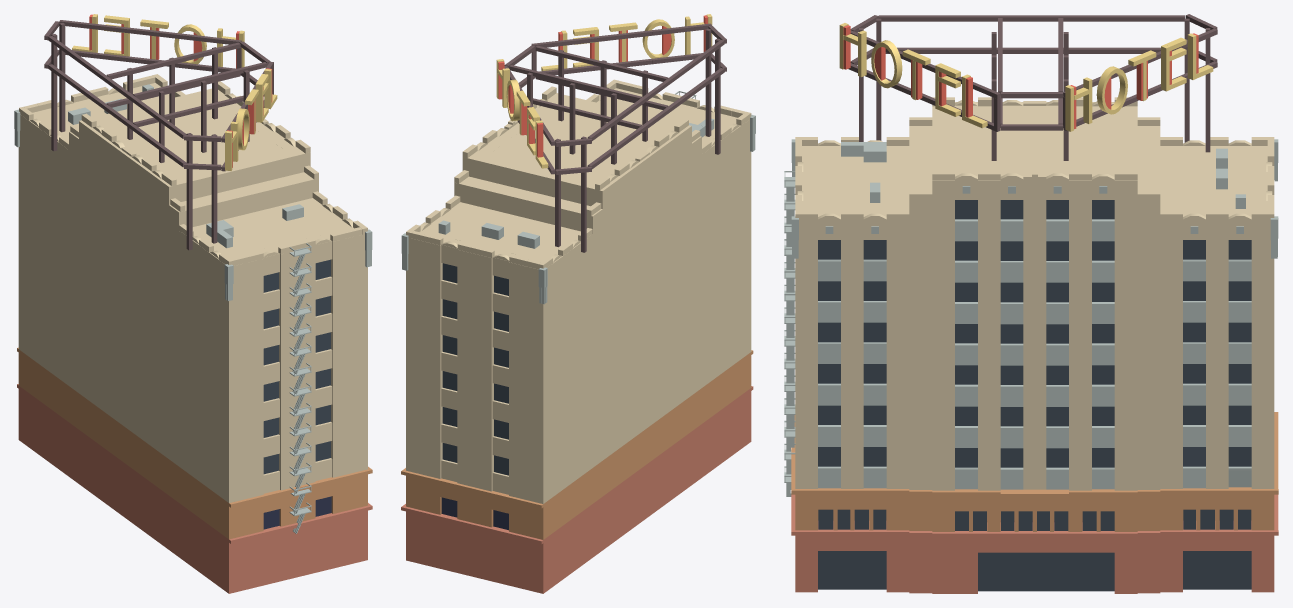
The model's file is Hotel_biggerBlock.fbx.
3 views of the same model, side by side, from view 1: azimuth 30°, elevation 25°; view 2: azimuth 150°, elevation 25°; view 3: azimuth 270°, elevation 25° (orthographic). The views are drawn at different scales.
Parts seen in each view (by area): view 1: pCube2976, pCube3454, pCube1697, pCube1586, pCube1311, pCube2116, pCube2918, pCube2003, pCube2524, pCube2298, pCube4908, pCube2984 (+134 smaller); view 2: pCube3417, pCube3442, pCube3448, pCube4872, pCube3420, pCube1579, pCube1692, pCube2916, pCube1309, pCube2519, pCube2180, pCube2293 (+142 smaller); view 3: pCube3454, pCube3415, pCube3543, pCube3544, pCube3545, pCube3418, pCube3542, pCube3419, pCube3417, pCube2964, pCube3519, pCube1552 (+122 smaller).
Part boxes in pixels (x1,y1,x2,y2): pCube2976: (209, 244, 263, 303); pCube3454: (313, 218, 372, 277); pCube1697: (209, 470, 265, 521); pCube1586: (209, 507, 265, 557); pCube1311: (209, 543, 263, 593); pCube2116: (209, 398, 263, 448); pCube2918: (209, 289, 263, 339); pCube2003: (209, 434, 263, 484); pCube2524: (209, 325, 263, 375); pCube2298: (209, 362, 263, 412); pCube4908: (149, 165, 203, 222); pCube2984: (244, 235, 298, 292); pCube3417: (454, 144, 509, 209); pCube3442: (561, 175, 612, 233); pCube3448: (509, 255, 553, 306); pCube4872: (490, 159, 541, 217); pCube3420: (401, 224, 449, 281); pCube1579: (507, 514, 553, 557); pCube1692: (507, 478, 553, 521); pCube2916: (509, 298, 553, 342); pCube1309: (509, 549, 553, 593); pCube2519: (509, 334, 553, 378); pCube2180: (509, 406, 553, 449); pCube2293: (509, 370, 553, 414); pCube3454: (791, 195, 840, 261); pCube3415: (1069, 159, 1114, 221); pCube3543: (932, 159, 977, 221); pCube3544: (978, 159, 1023, 221); pCube3545: (1023, 159, 1068, 220); pCube3418: (1160, 201, 1205, 261); pCube3542: (841, 201, 886, 261); pCube3419: (1206, 201, 1251, 261); pCube3417: (1114, 159, 1160, 221); pCube2964: (886, 201, 932, 262); pCube3519: (1160, 509, 1214, 550); pCube1552: (932, 511, 986, 552).
Bounding box in the file's own units: 18.14 × 47.92 × 42.64.
